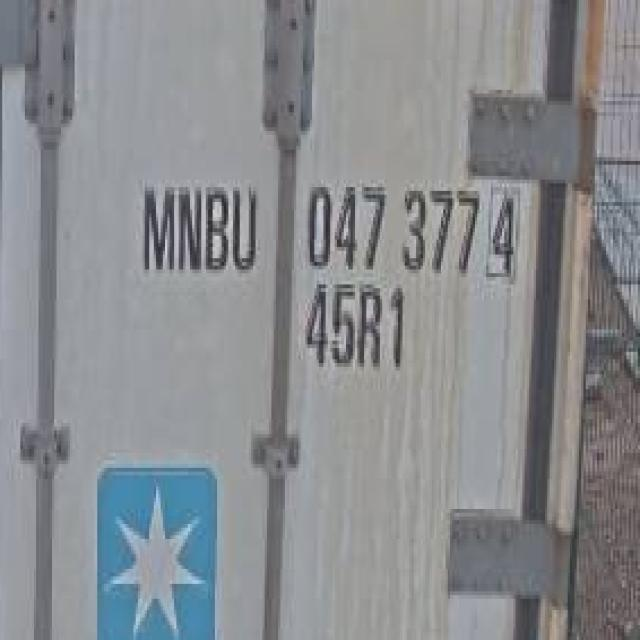dv: (486, 180, 523, 282)
owner: (134, 162, 264, 282)
serial: (299, 172, 482, 276)
size: (299, 280, 414, 375)
